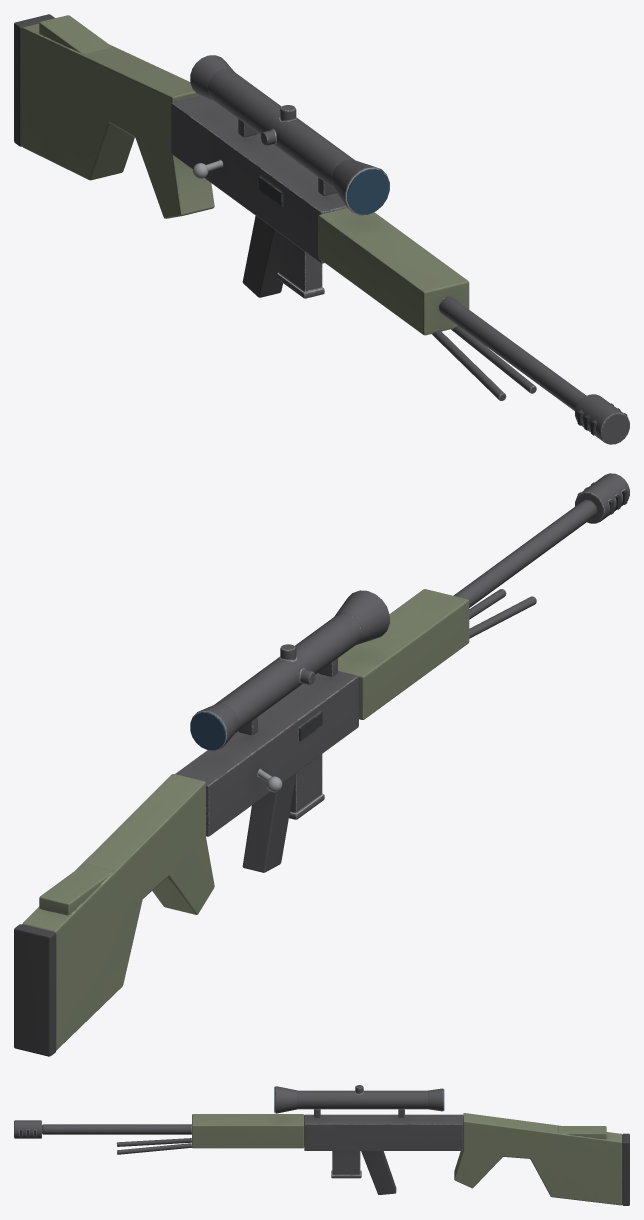
Rendered from awp.fbx.
3 views of the same model, one above another, from view 1: azimuth 30°, elevation 25°; view 2: azimuth 150°, elevation 25°; view 3: azimuth 270°, elevation 25° (orthographic). The views are drawn at different scales.
Visible parts, largest first — view 1: awp; view 2: awp; view 3: awp.
Part boxes in pixels (x1=…): awp: x1=14, y1=14, x2=629, y2=444; awp: x1=14, y1=473, x2=629, y2=1056; awp: x1=14, y1=1085, x2=629, y2=1205.
Size of the model in its own units: 0.0867 by 0.2717 by 1.32.
